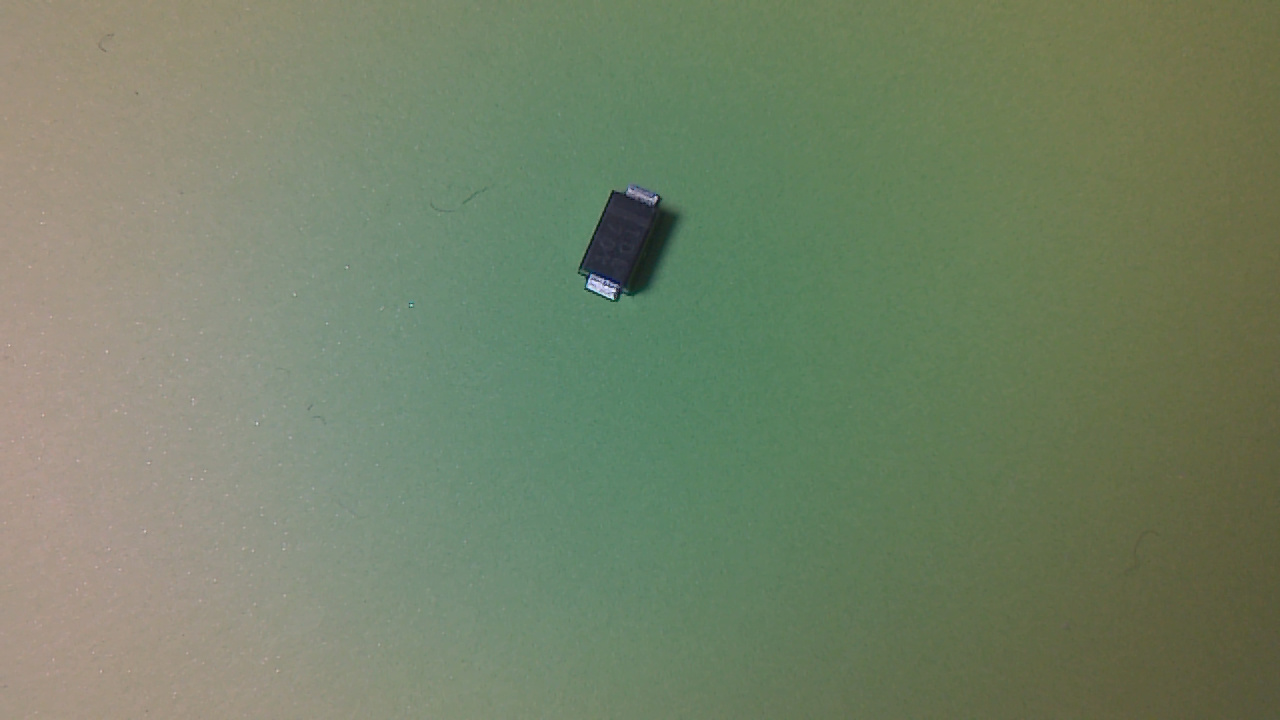Diode: (581, 188, 674, 310)
